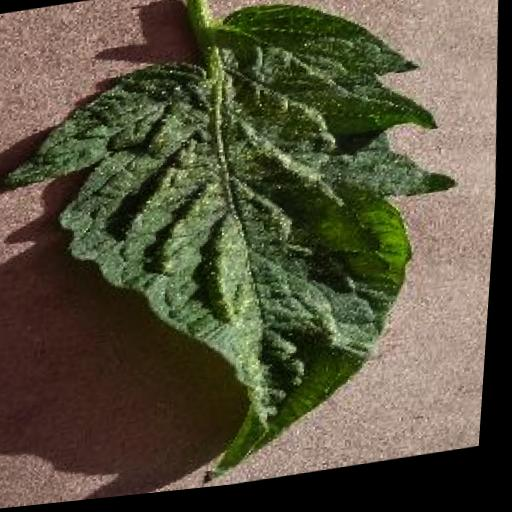Spider Mites: (0, 0, 480, 512)
